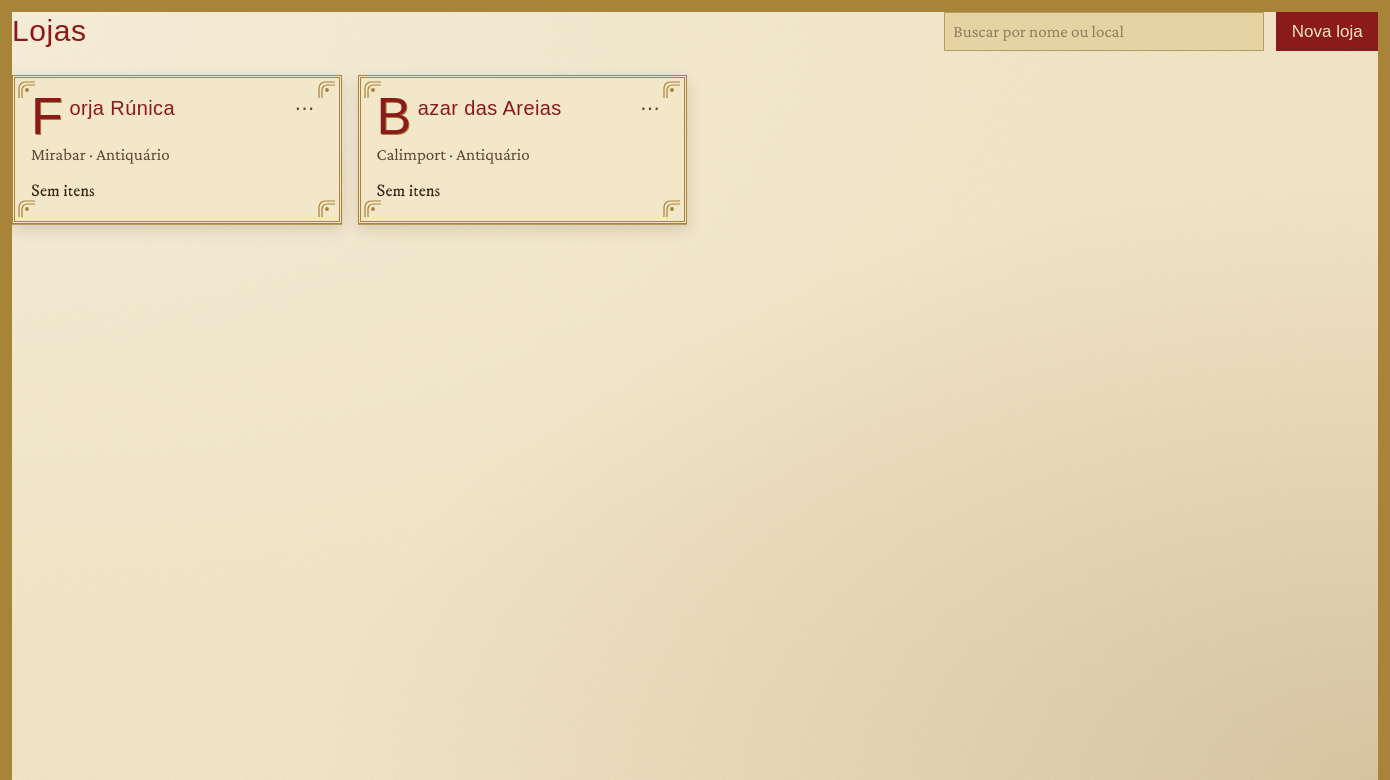
Test: HomeView › duplica uma loja
Click the button named "Ações de Forja Rúnica".
click(304, 108)  # box x1=286 y1=94 x2=322 y2=122
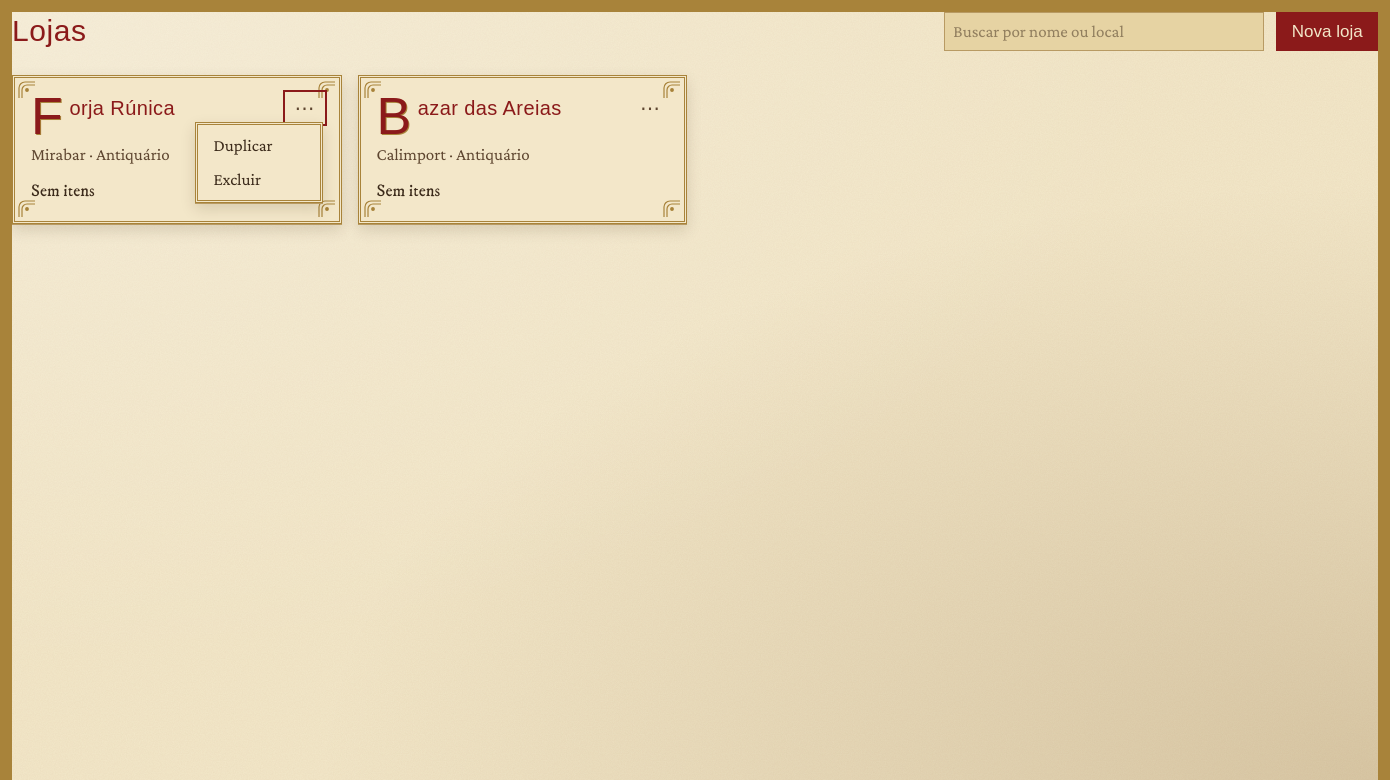
Click the menu item "Duplicar".
click(258, 146)  # box x1=202 y1=129 x2=316 y2=163
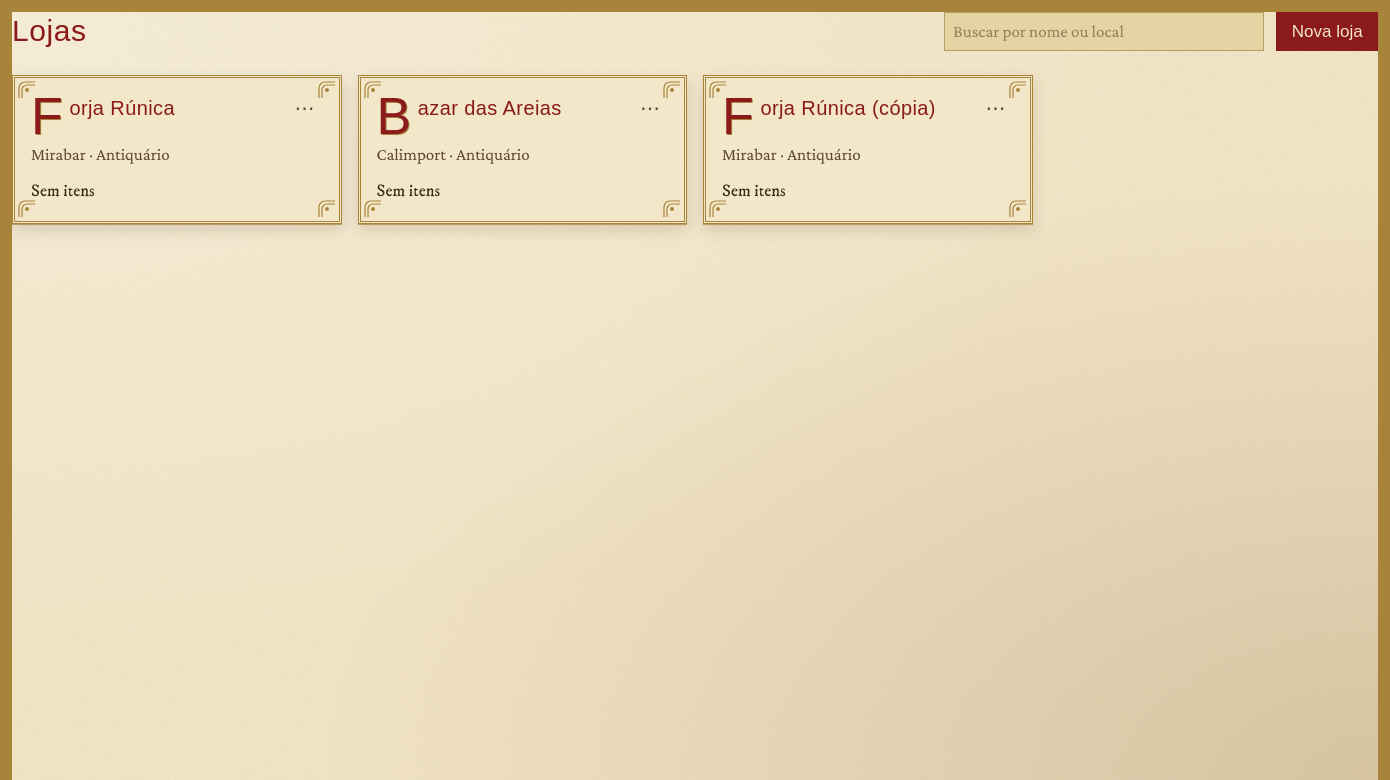
Check: the link "Forja Rúnica (cópia)" is shown, box x1=760 y1=97 x2=936 y2=119
